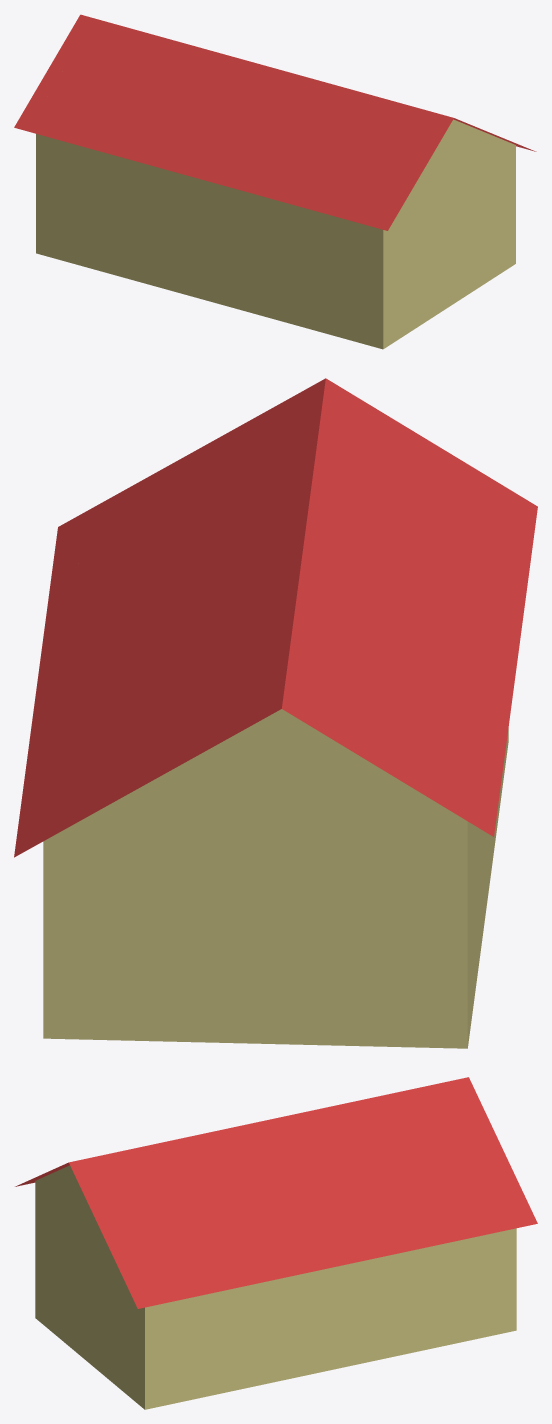
The picture shows the model from 3 angles, top to bottom: view 1: azimuth 30°, elevation 25°; view 2: azimuth 150°, elevation 25°; view 3: azimuth 270°, elevation 25°; orthographic projection. The views are drawn at different scales.
Size of the model in its own units: 28.15 by 32.97 by 13.79.
